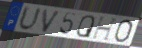5: (58, 12, 78, 36)
H: (90, 15, 120, 42)
O: (113, 19, 134, 43)
Q: (76, 14, 96, 39)
U: (17, 5, 43, 32)
V: (41, 9, 63, 35)
